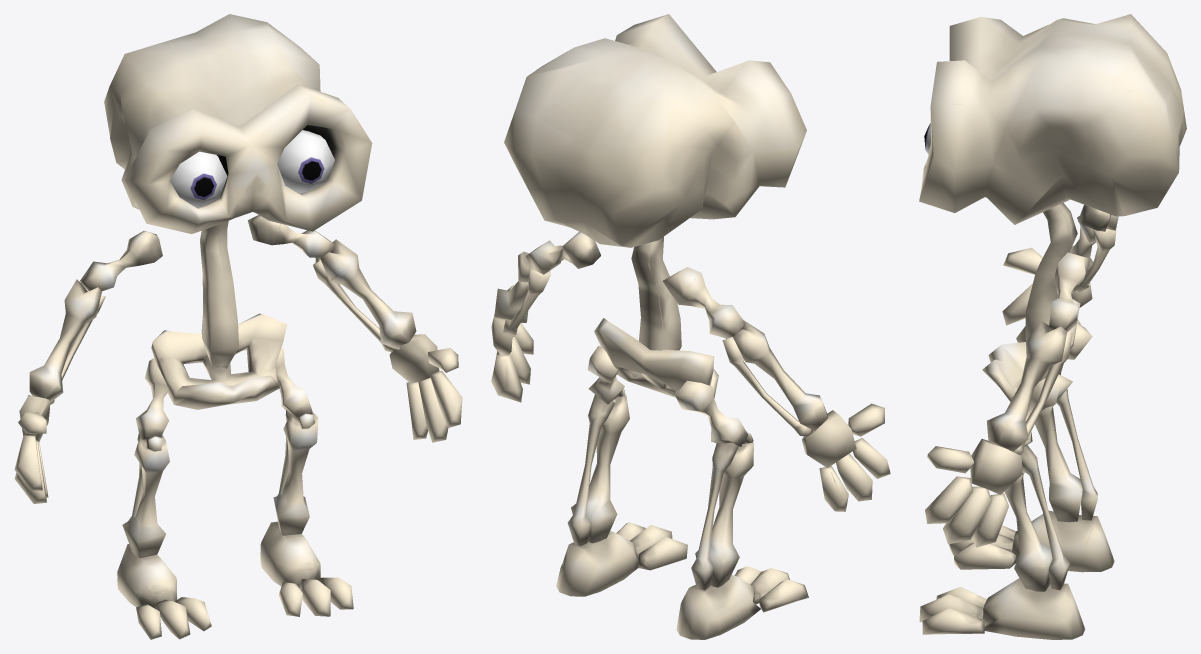
Rendered from skeleton_separated.fbx.
3 renders of one model, left to right at view 1: azimuth 30°, elevation 25°; view 2: azimuth 150°, elevation 25°; view 3: azimuth 270°, elevation 25°, orthographic. The views are drawn at different scales.
Visible parts, largest first — view 1: Skeleton 1 separated.035, Skeleton 1 separated.009, Skeleton 1 separated.020, Skeleton 1 separated.021, Skeleton 1 separated.016, Skeleton 1 separated.017, Skeleton 1 separated.034; view 2: Skeleton 1 separated.035, Skeleton 1 separated.020, Skeleton 1 separated.021, Skeleton 1 separated.016, Skeleton 1 separated.009, Skeleton 1 separated.017, Skeleton 1 separated.034; view 3: Skeleton 1 separated.035, Skeleton 1 separated.009, Skeleton 1 separated.021, Skeleton 1 separated.020, Skeleton 1 separated.016, Skeleton 1 separated.034, Skeleton 1 separated.017.
Boxes of the visible parts, x1=… form: Skeleton 1 separated.035: x1=104, y1=14, x2=372, y2=233; Skeleton 1 separated.009: x1=248, y1=215, x2=462, y2=442; Skeleton 1 separated.020: x1=116, y1=358, x2=211, y2=639; Skeleton 1 separated.021: x1=260, y1=347, x2=353, y2=616; Skeleton 1 separated.016: x1=14, y1=230, x2=162, y2=503; Skeleton 1 separated.017: x1=151, y1=313, x2=287, y2=409; Skeleton 1 separated.034: x1=200, y1=220, x2=238, y2=368; Skeleton 1 separated.035: x1=504, y1=14, x2=806, y2=247; Skeleton 1 separated.020: x1=675, y1=380, x2=808, y2=639; Skeleton 1 separated.021: x1=556, y1=346, x2=687, y2=596; Skeleton 1 separated.016: x1=662, y1=267, x2=890, y2=511; Skeleton 1 separated.009: x1=491, y1=231, x2=600, y2=402; Skeleton 1 separated.017: x1=594, y1=318, x2=718, y2=397; Skeleton 1 separated.034: x1=631, y1=237, x2=681, y2=350; Skeleton 1 separated.035: x1=919, y1=14, x2=1186, y2=224; Skeleton 1 separated.009: x1=925, y1=252, x2=1090, y2=547; Skeleton 1 separated.021: x1=919, y1=374, x2=1085, y2=639; Skeleton 1 separated.020: x1=949, y1=322, x2=1114, y2=572; Skeleton 1 separated.016: x1=1002, y1=204, x2=1118, y2=342; Skeleton 1 separated.034: x1=1025, y1=203, x2=1077, y2=340; Skeleton 1 separated.017: x1=982, y1=299, x2=1080, y2=401.
Size of the model in its own units: 26.24 by 32.66 by 13.98.
